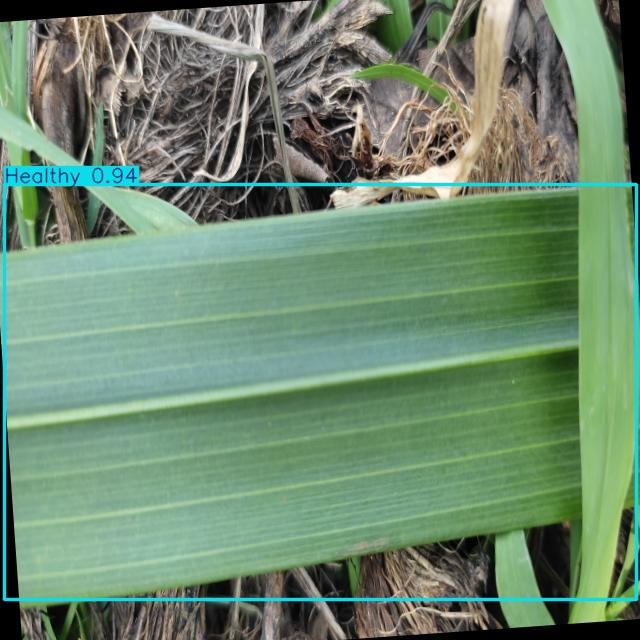Healthy: (5, 184, 637, 600)
